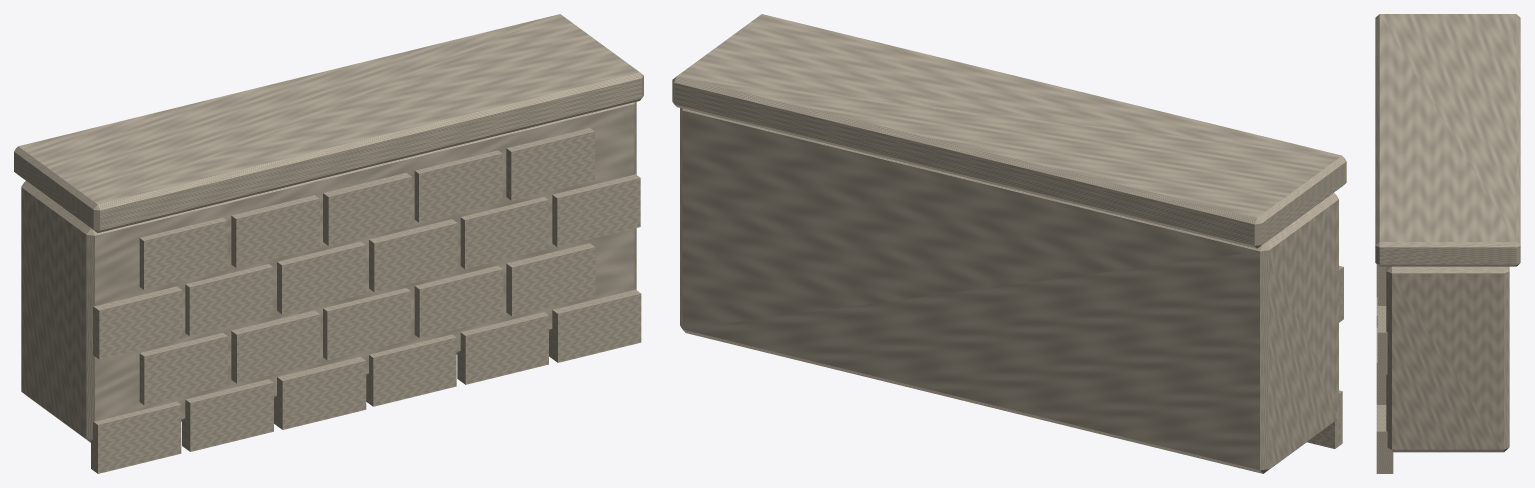
Rendered from fantasy-mmo-city-and-townsfolk-retaining-wall-bay-caaa15f3__32726.glb.
3 renders of one model, left to right at view 1: azimuth 30°, elevation 25°; view 2: azimuth 150°, elevation 25°; view 3: azimuth 270°, elevation 25°, orthographic. The views are drawn at different scales.
Parts seen in each view (by area): view 1: retaining-wall-bay; view 2: retaining-wall-bay; view 3: retaining-wall-bay.
Boxes of the visible parts, x1,y1,x2,y2 form: retaining-wall-bay: (14, 14, 643, 473); retaining-wall-bay: (672, 14, 1346, 473); retaining-wall-bay: (1375, 14, 1520, 473).
Bounding box in the file's own units: 4 × 1.87 × 1.06.
Materials: 1 (1 with a texture image).
